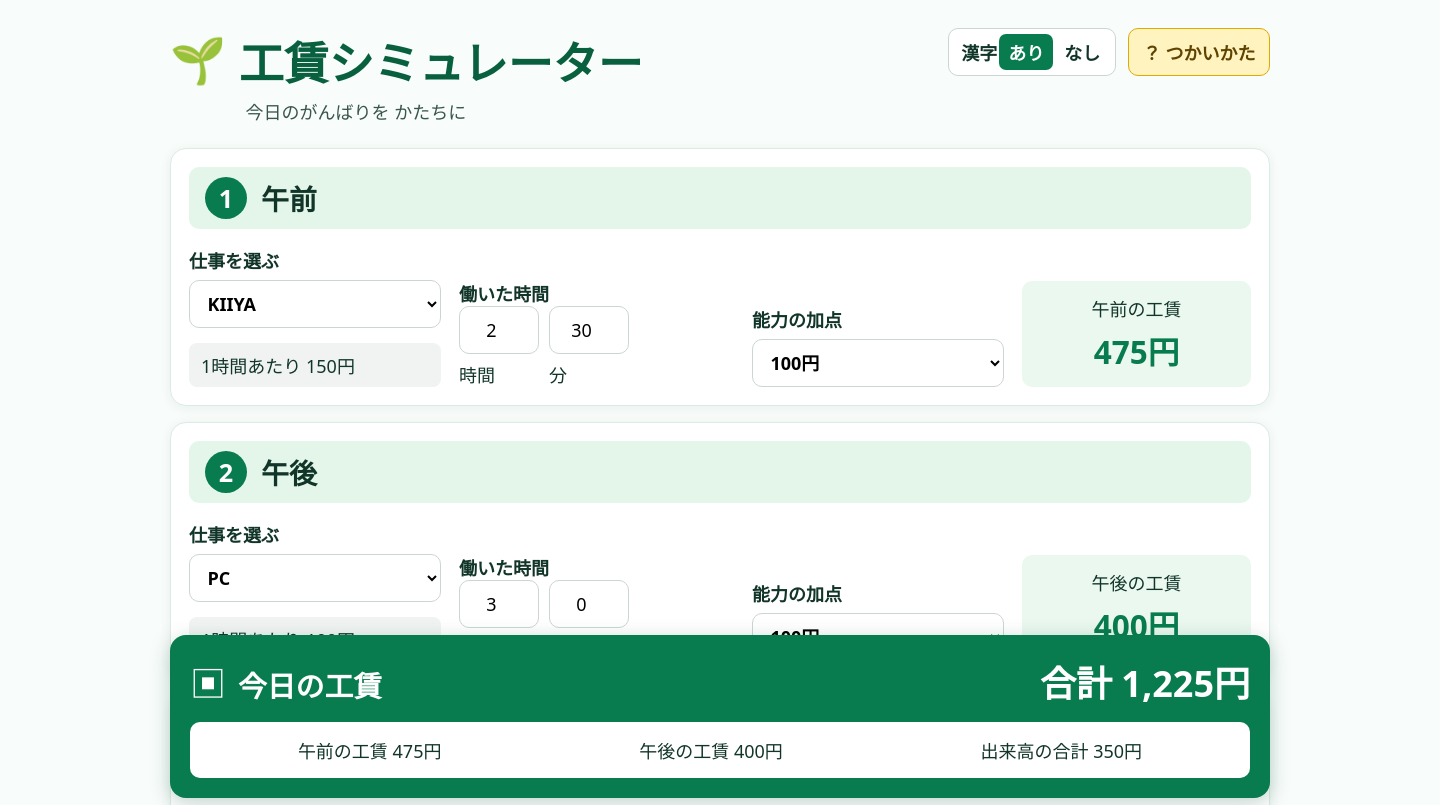
工賃シミュレーター › つかいかたビューの文言を表示モードに合わせて切り替える
Click the button "？ つかいかた".
click(1199, 52)  # box [1128,28,1270,76]
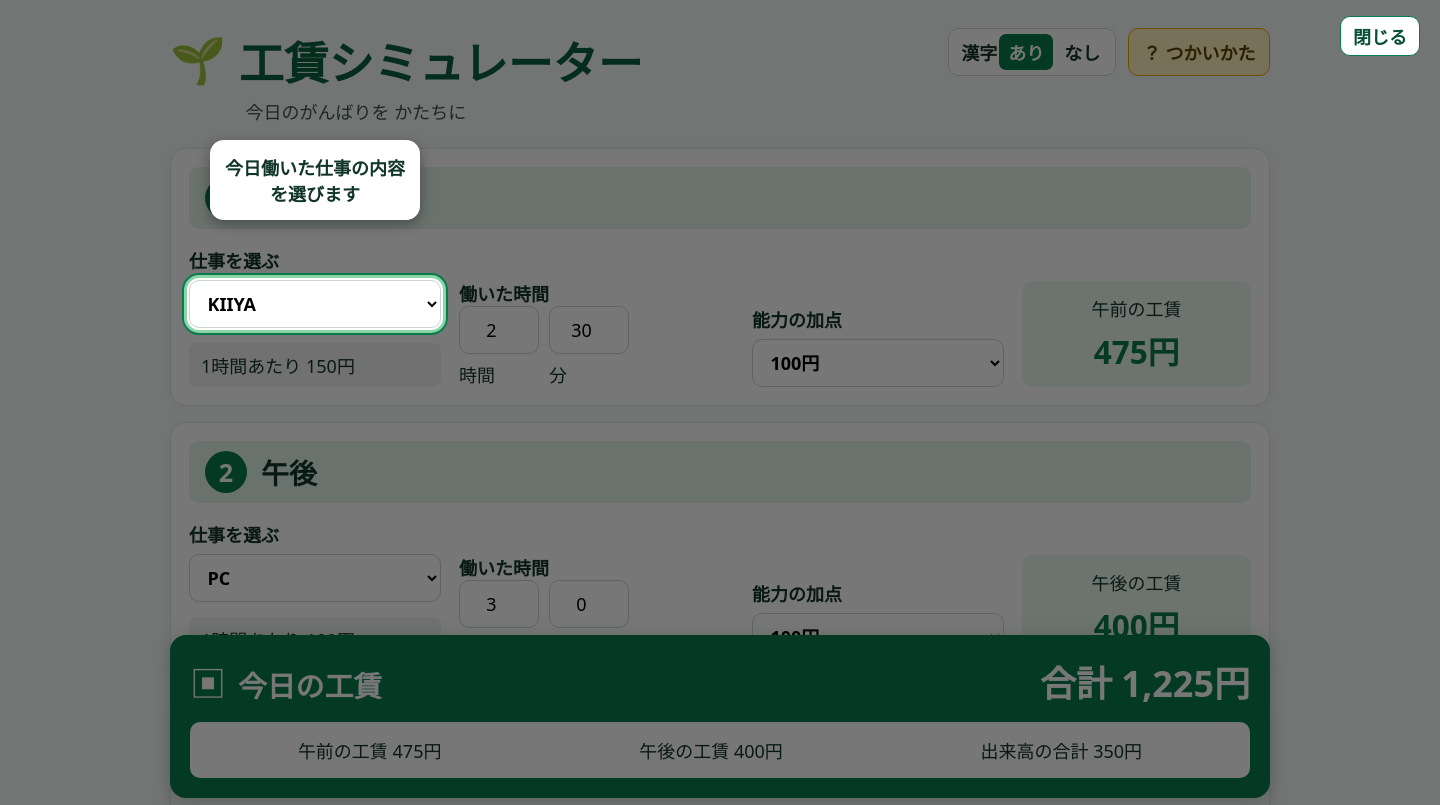
expect the text "今日働いた仕事の内容を選びます" is shown: met, box [210,140,420,220]
Click the button "閉じる".
click(1380, 36)  # box [1340,16,1420,56]
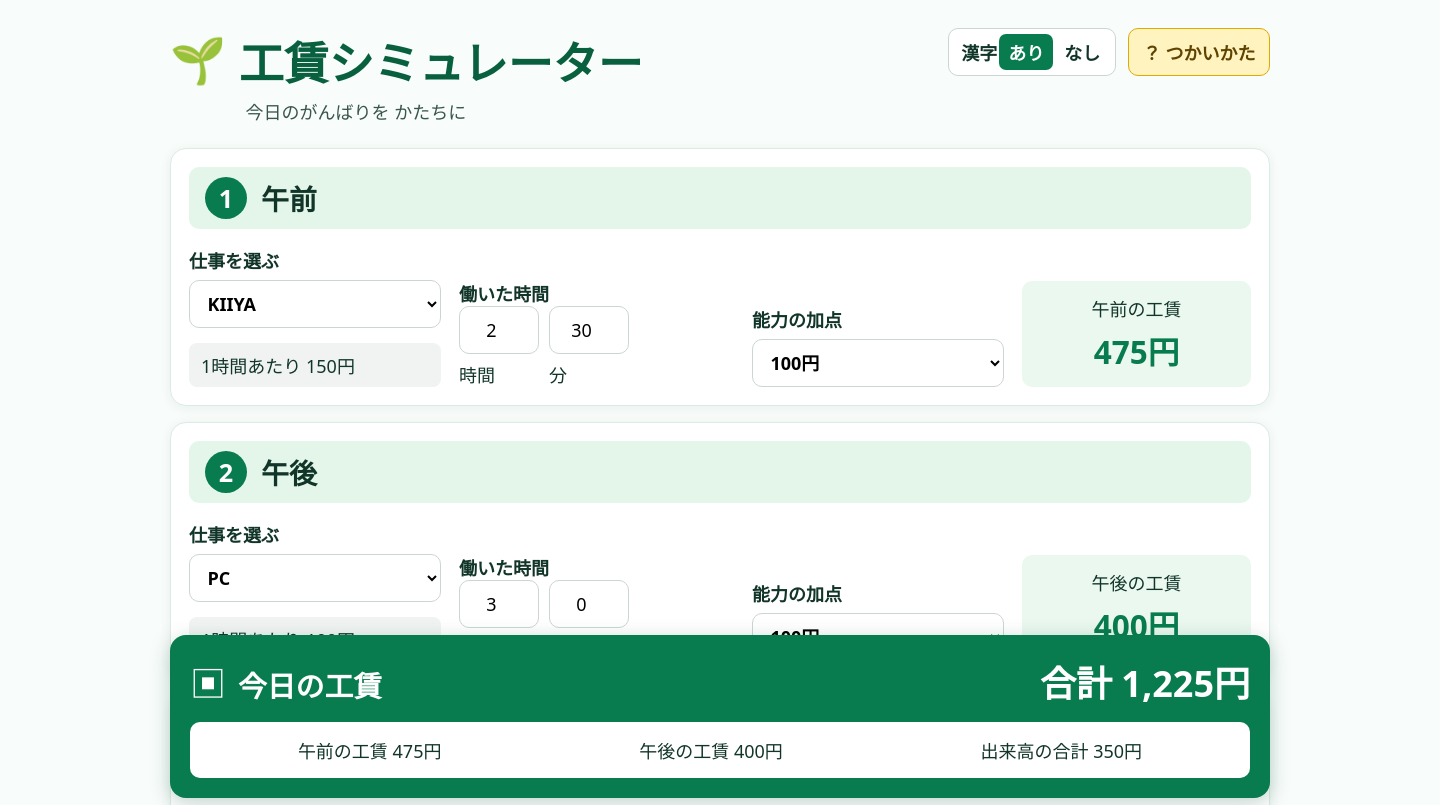
Click the button "なし".
click(1082, 52)  # box [1055,34,1109,70]
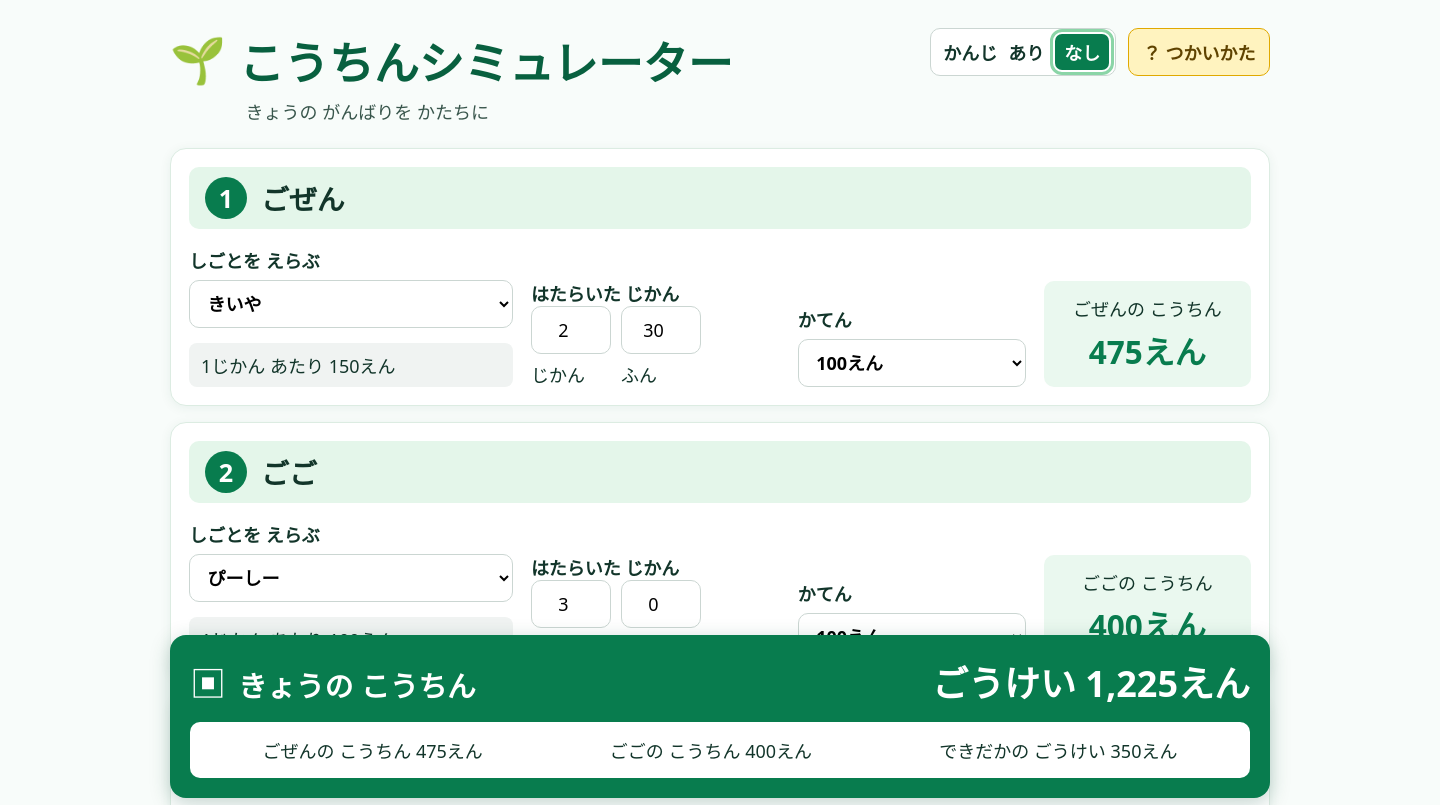
Click the button "？ つかいかた".
click(1199, 52)  # box [1128,28,1270,76]
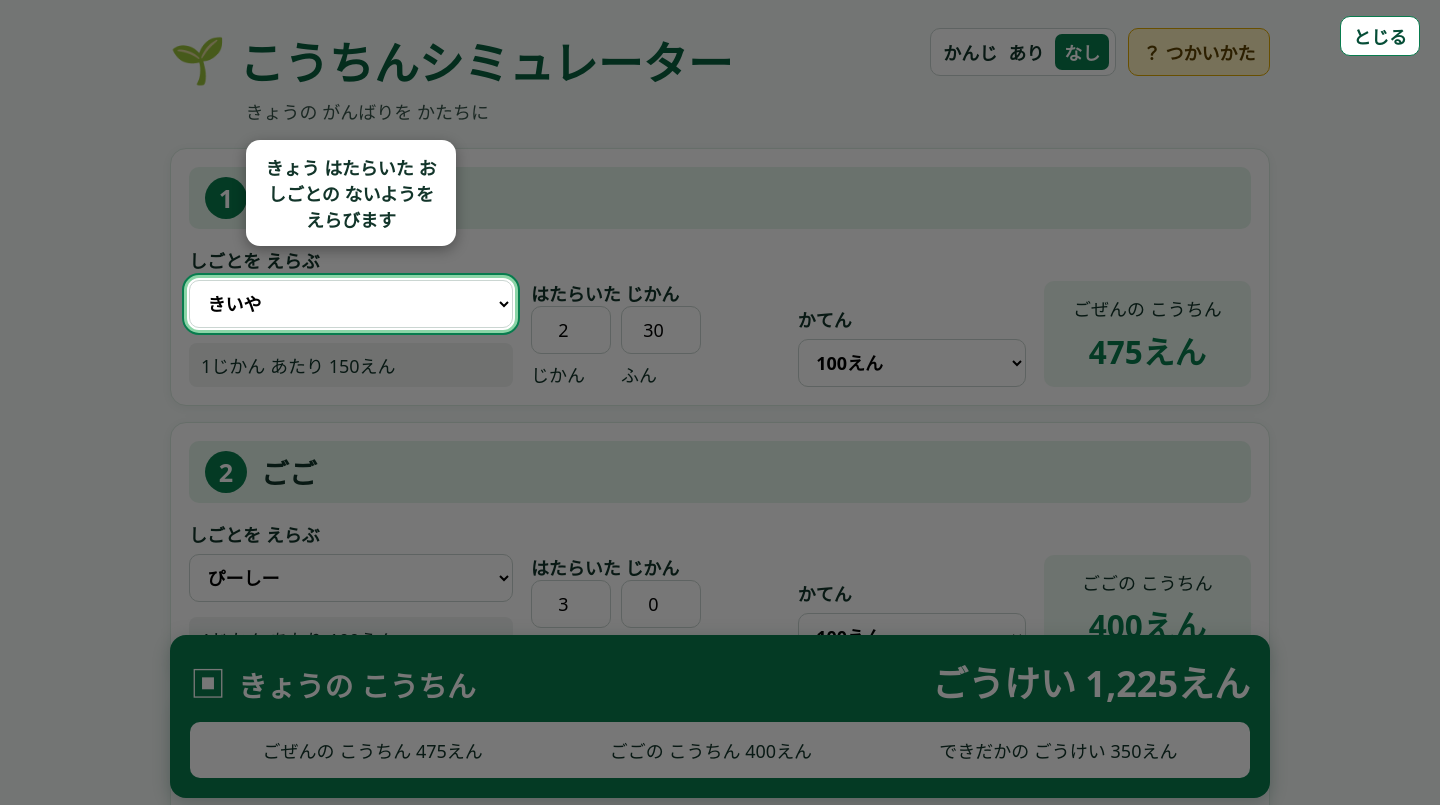
expect the text "きょう はたらいた おしごとの ないようを えらびます" is shown: met, box [246,140,456,246]
